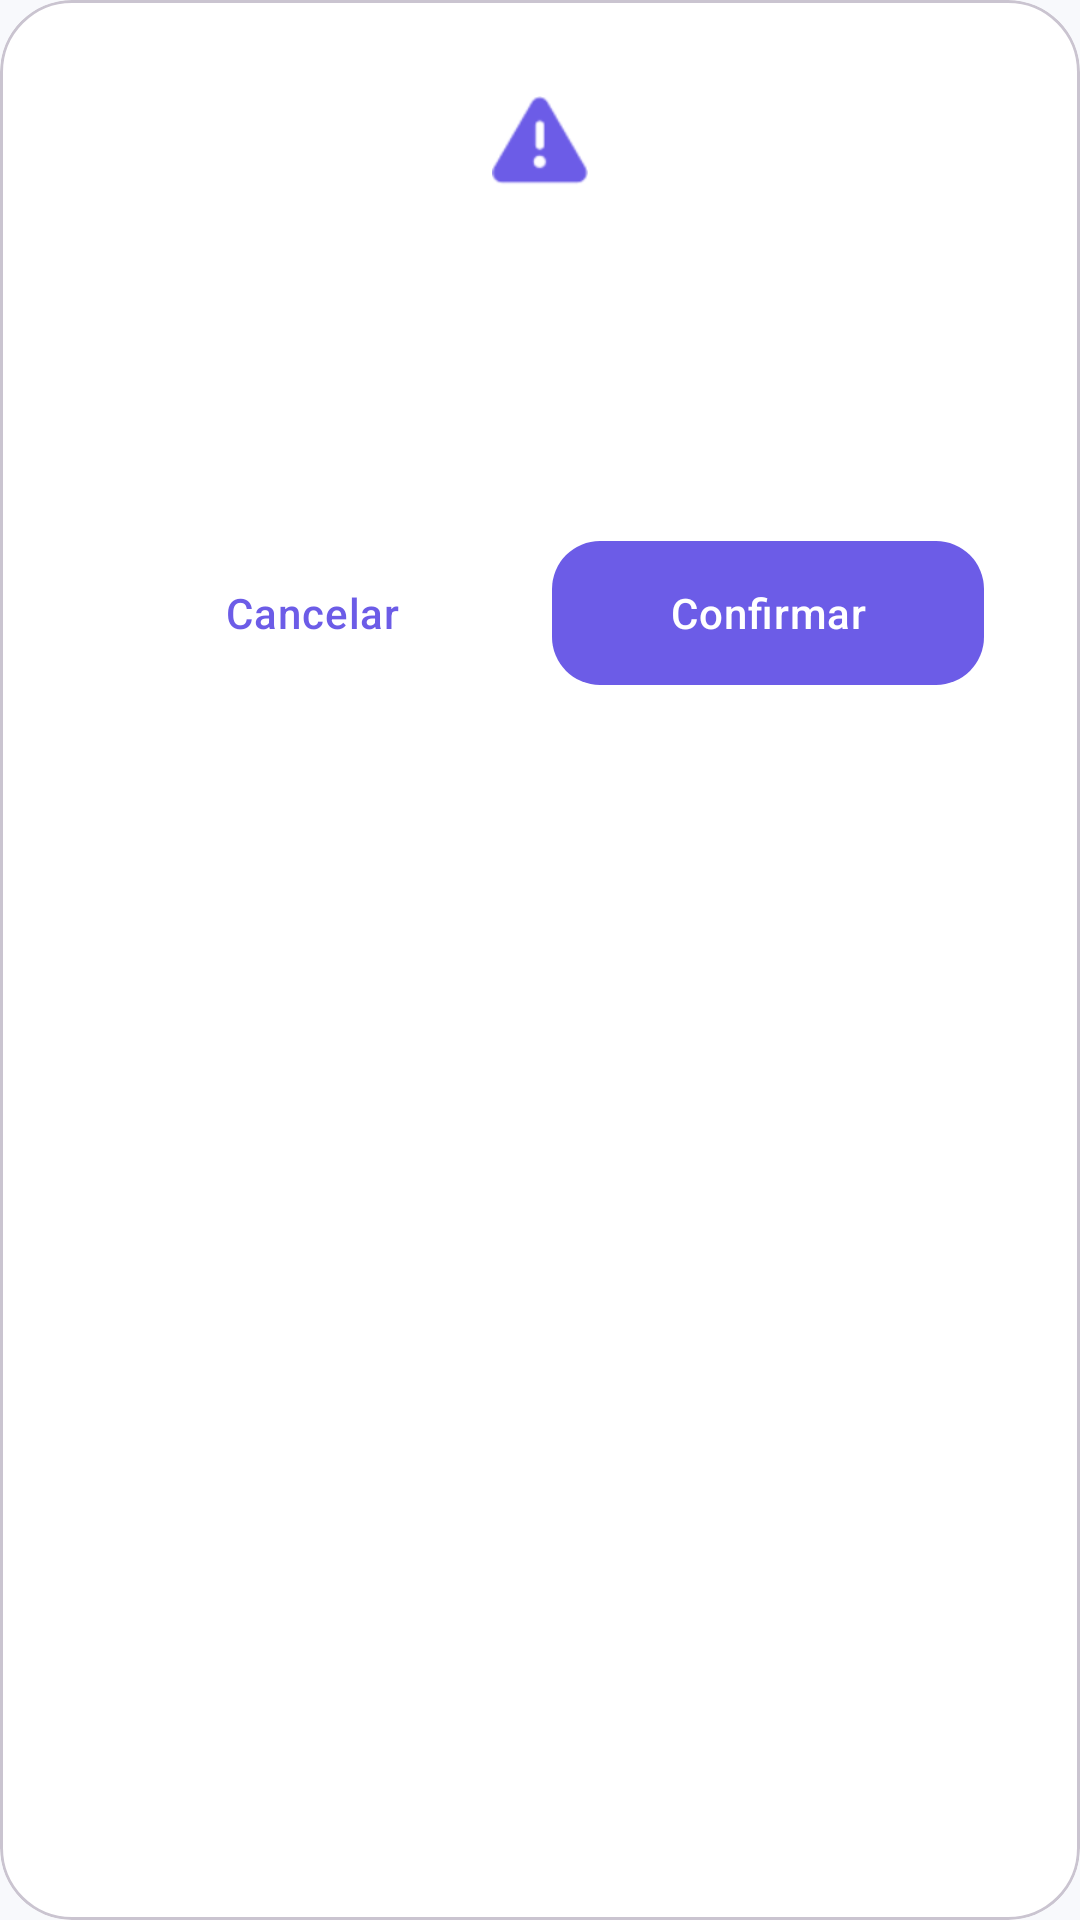

Icon bounding boxes for this 1080w x 1920h phone screenshot, format (x1, y1, x2, y2):
Ícone do Diálogo: (492, 96, 588, 183)
